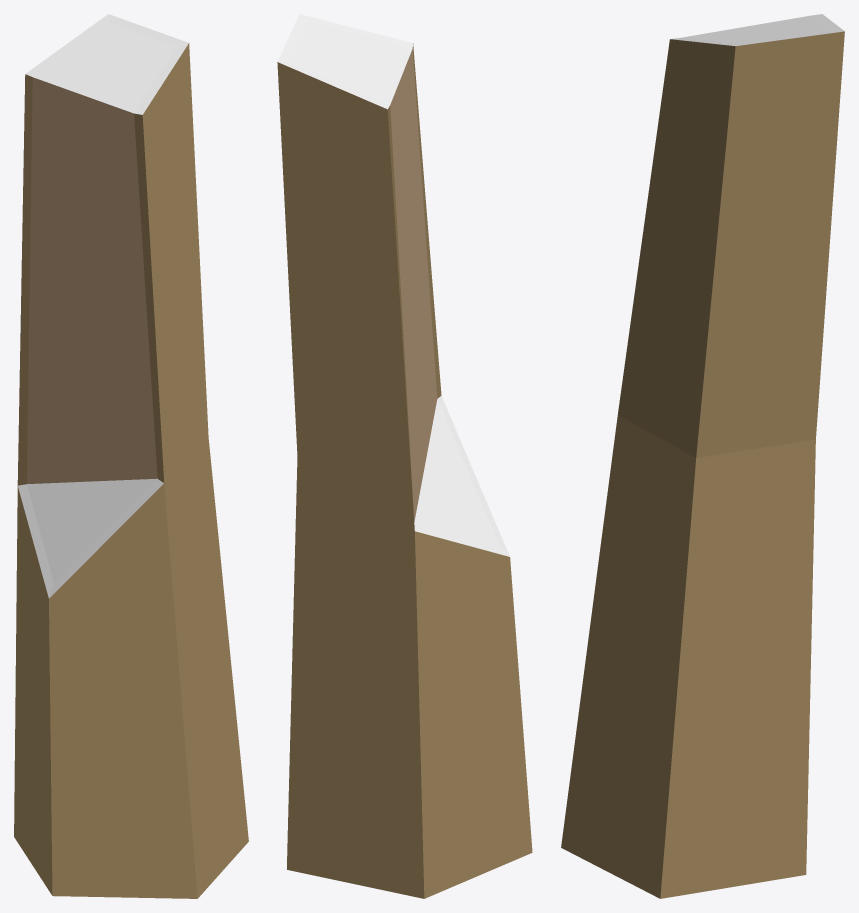
The model's file is Acacia_Stump_Snow_01.fbx.
The picture shows the model from 3 angles, left to right: view 1: azimuth 30°, elevation 25°; view 2: azimuth 150°, elevation 25°; view 3: azimuth 270°, elevation 25°; orthographic projection. The views are drawn at different scales.
Parts seen in each view (by area): view 1: Acacia_Stump_Snow_01; view 2: Acacia_Stump_Snow_01; view 3: Acacia_Stump_Snow_01.
Part boxes in pixels (bbox=[...]): Acacia_Stump_Snow_01: bbox=[14, 14, 248, 898]; Acacia_Stump_Snow_01: bbox=[277, 14, 532, 898]; Acacia_Stump_Snow_01: bbox=[561, 14, 844, 898].
Bounding box in the file's own units: 69.49 × 254 × 77.97.
